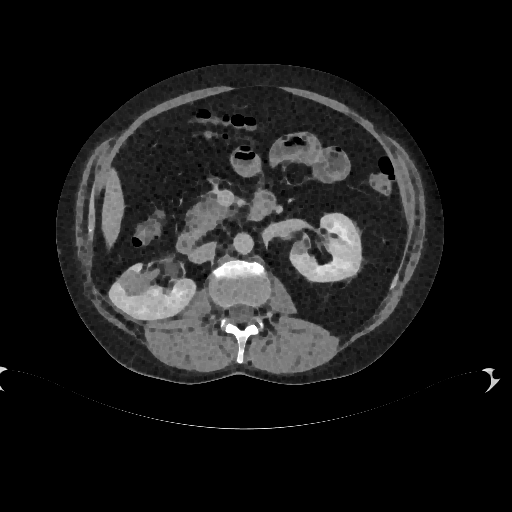Lesion: (118, 266, 162, 296)
